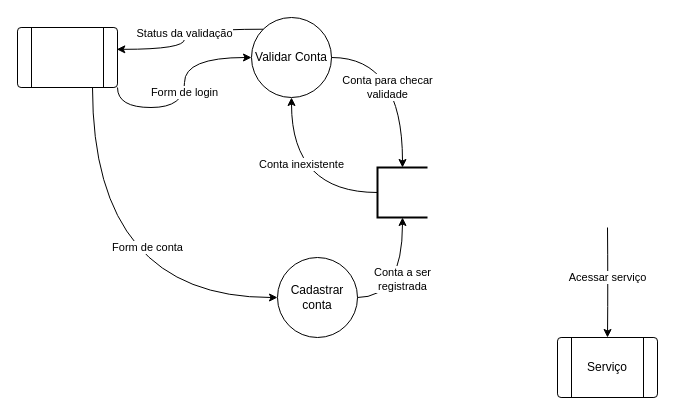
The diagram is 675 pixels wide and 415 high, and some of its shapes have lost their labels. Each missing label, with the box of its shape:
Usuário não Logado: (16, 26, 118, 88)
Usuários: (376, 166, 428, 218)
